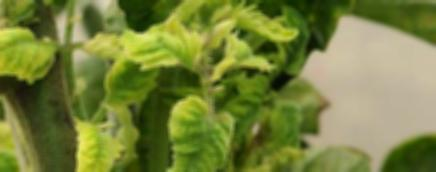Tomato leaf yellow virus: (145, 81, 234, 172), (87, 27, 194, 85), (63, 96, 127, 172), (0, 17, 56, 82)
